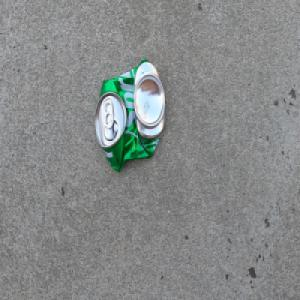SodaCan: (94, 56, 166, 173)
